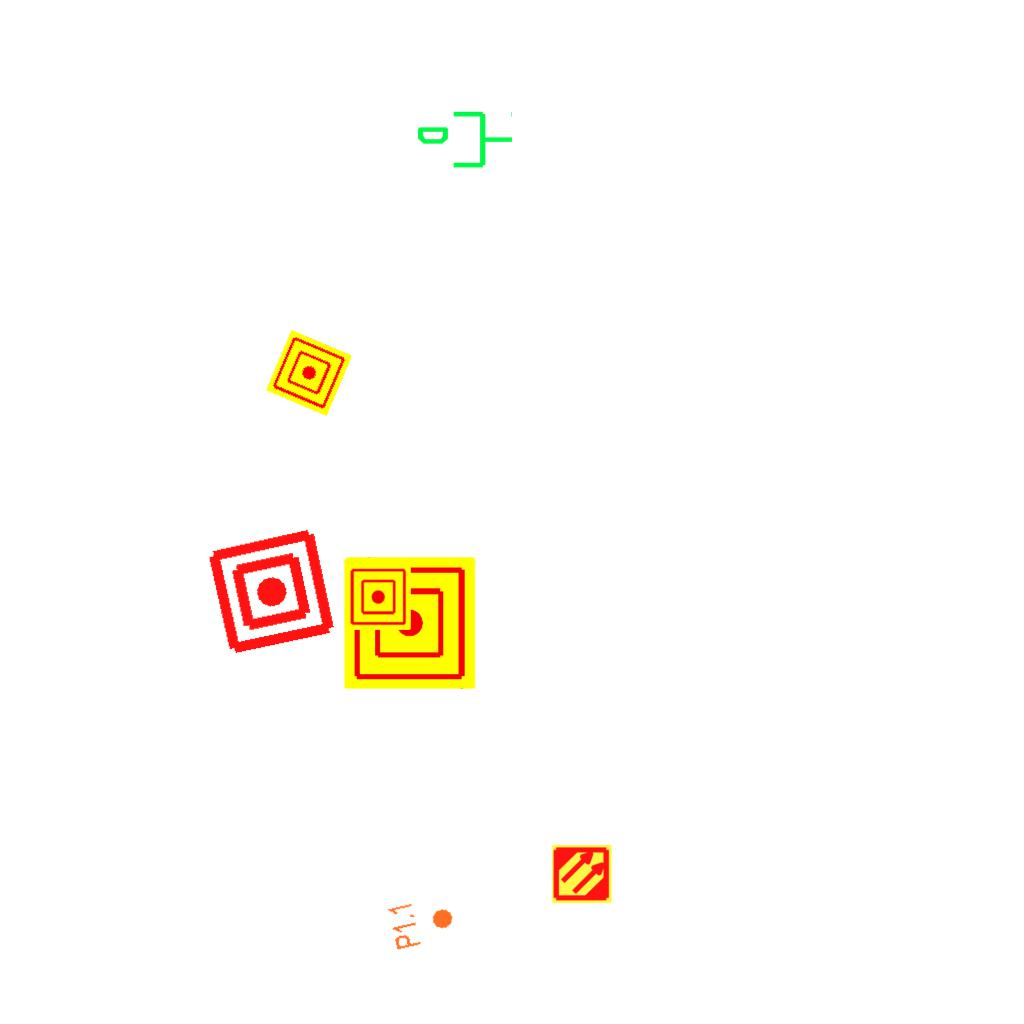ASR_Ansaugrauchmelder: (551, 843, 613, 905)
Datenanschluss_einfach: (415, 107, 515, 176)
Downlight_LED_Einbauleuchten_Flur: (385, 892, 459, 952)
NAM-Nichtautomatischer_Melder: (204, 524, 339, 659), (344, 557, 476, 689), (265, 329, 353, 417), (345, 564, 411, 630)
